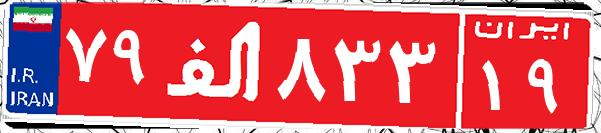1: (475, 38, 525, 113)
3: (385, 28, 445, 110), (330, 28, 385, 110)
7: (57, 26, 110, 107)
8: (273, 28, 330, 110)
9: (110, 28, 158, 105), (525, 38, 570, 115)
الف: (158, 15, 273, 115)
